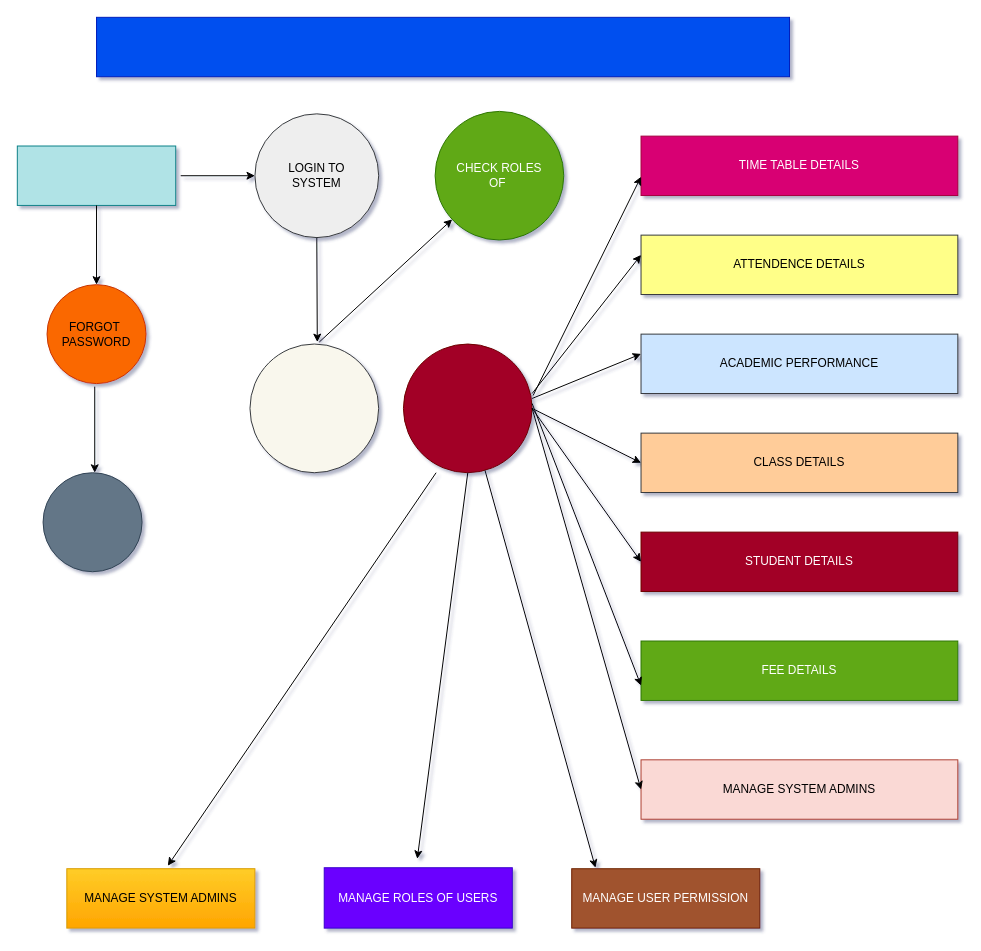
Image size: 981x951. Some labels were removed from this diagram. The shapes that lost their labels are listed below. From the top down, each one's centre as x and y in pixels, then its label:
At pixel 443 46: "STUDENT INFORMATION SYSTEM".
At pixel 96 175: "ADMIN".
At pixel 314 408: "CHECK CREDINTALS".
At pixel 467 408: "MANAGE MODULES".
At pixel 92 522: "SEND EMAIL TO USER".
